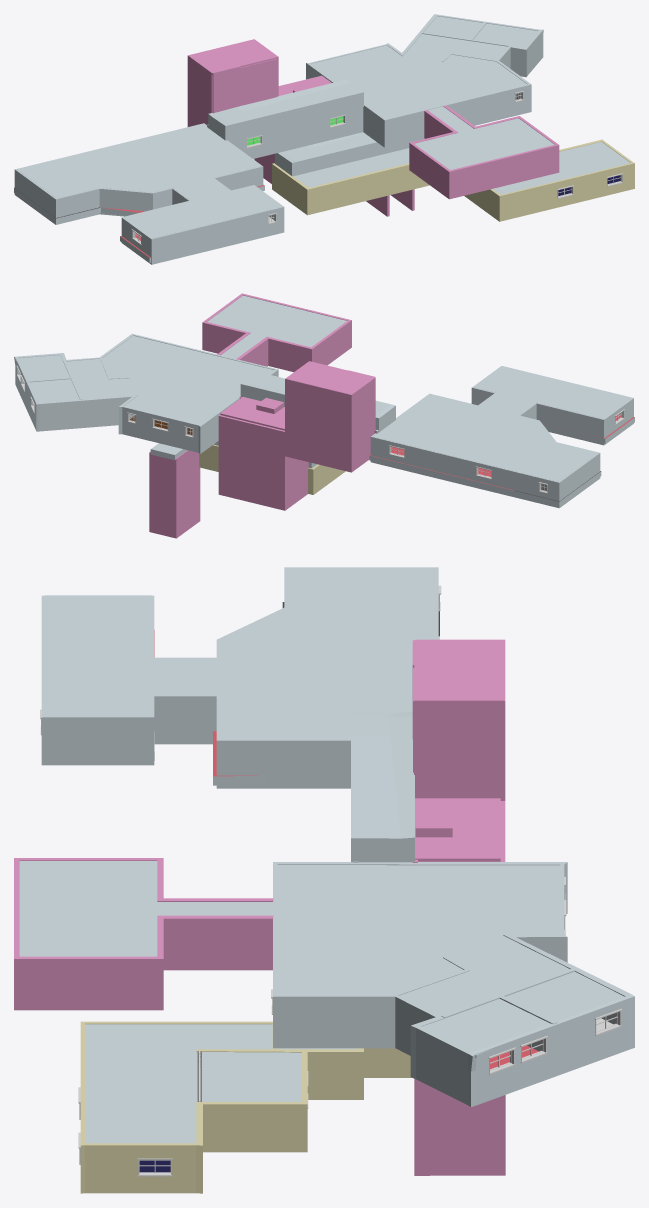
Rendered from Apartment.fbx.
3 renders of one model, top to bottom at view 1: azimuth 30°, elevation 25°; view 2: azimuth 150°, elevation 25°; view 3: azimuth 270°, elevation 25°, orthographic. The views are drawn at different scales.
Visible parts, largest first — view 1: Apartment, Windows; view 2: Apartment, Windows; view 3: Apartment, Windows.
Part boxes in pixels (x1,y1,x2,y2): Apartment: (14,14,634,264); Windows: (131,91,623,244); Apartment: (14,293,634,538); Windows: (16,365,624,493); Apartment: (14,567,634,1193); Windows: (40,585,622,1176).
Bounding box in the file's own units: 12180 × 4039 × 6486.
